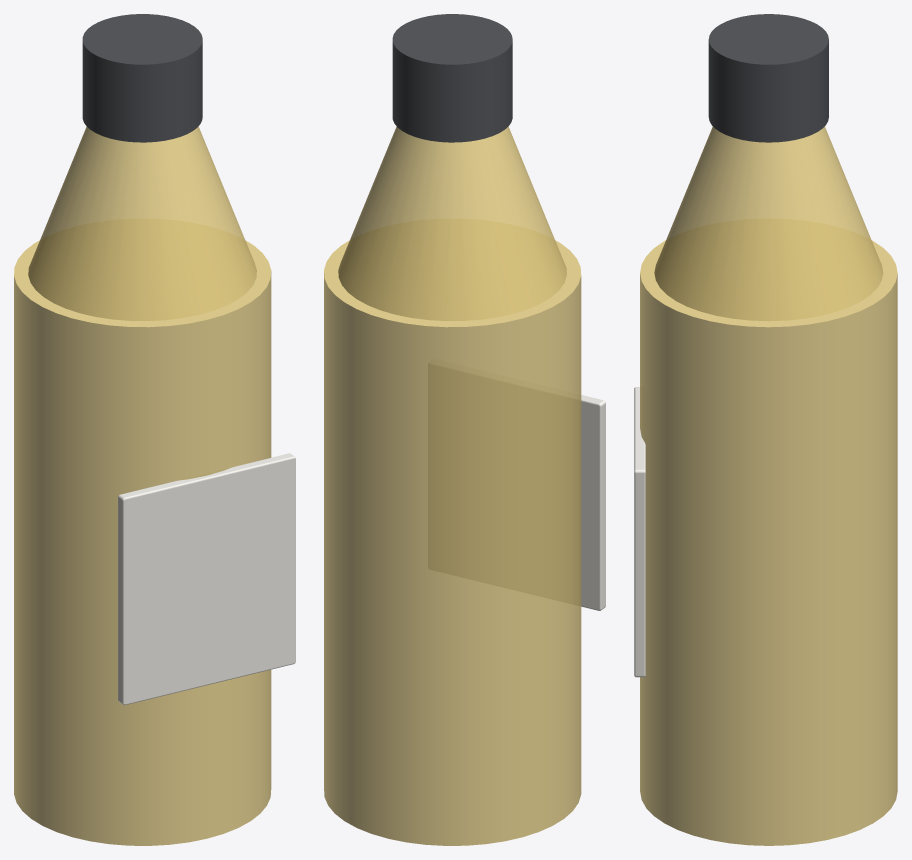
Rendered from bottle.glb.
3 views of the same model, side by side, from view 1: azimuth 30°, elevation 25°; view 2: azimuth 150°, elevation 25°; view 3: azimuth 270°, elevation 25° (orthographic).
Visible parts, largest first — view 1: bottle; view 2: bottle; view 3: bottle.
Boxes of the visible parts, <box> form: bottle: <box>14,14,295,845</box>; bottle: <box>324,14,605,845</box>; bottle: <box>634,14,897,845</box>.
Size of the model in its own units: 0.09 by 0.29 by 0.092.
